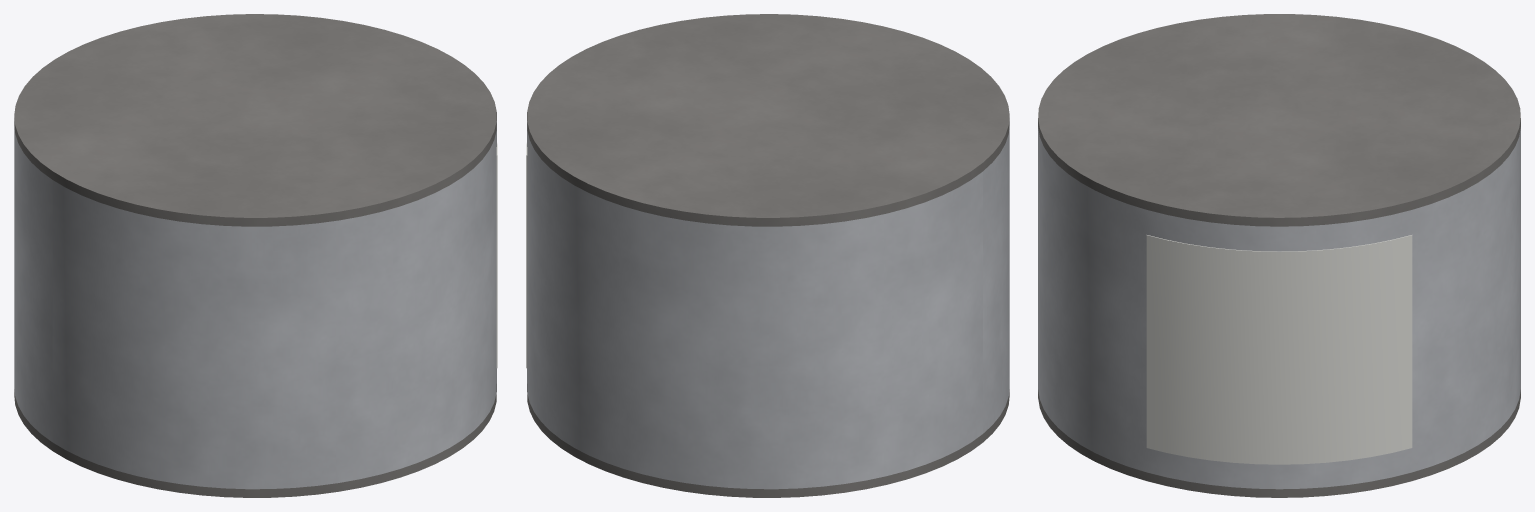
File: sci03_science_bay_m.glb
3 views of the same model, side by side, from view 1: azimuth 30°, elevation 25°; view 2: azimuth 150°, elevation 25°; view 3: azimuth 270°, elevation 25° (orthographic).
Parts seen in each view (by area): view 1: shell, end_rings; view 2: shell, end_rings; view 3: end_rings, shell, door.
Part boxes in pixels (x1,y1,x2,y2): shell: (14,121,496,489); end_rings: (14,14,496,497); shell: (527,121,1009,489); end_rings: (527,14,1009,497); end_rings: (1038,14,1520,497); shell: (1038,127,1520,489); door: (1146,235,1412,464).
Size of the model in its own units: 2.5 by 1.6 by 2.5.
Materials: 5 (3 with a texture image).
